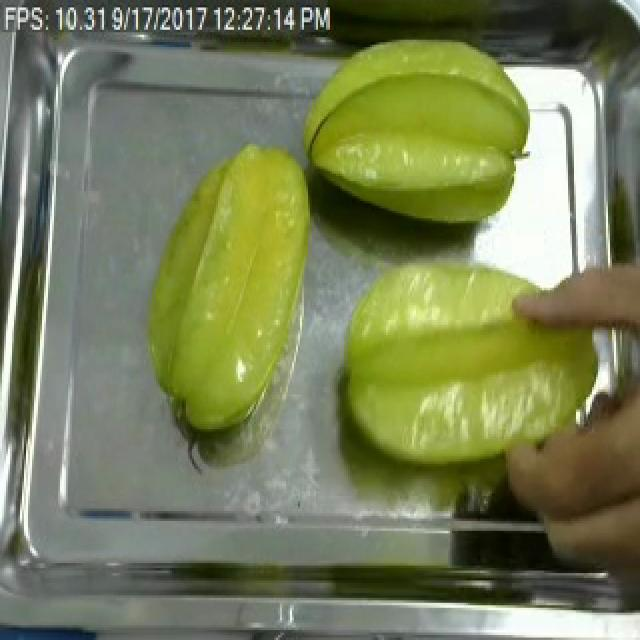fruit: (322, 243, 612, 479), (134, 134, 326, 446), (290, 22, 540, 236)
